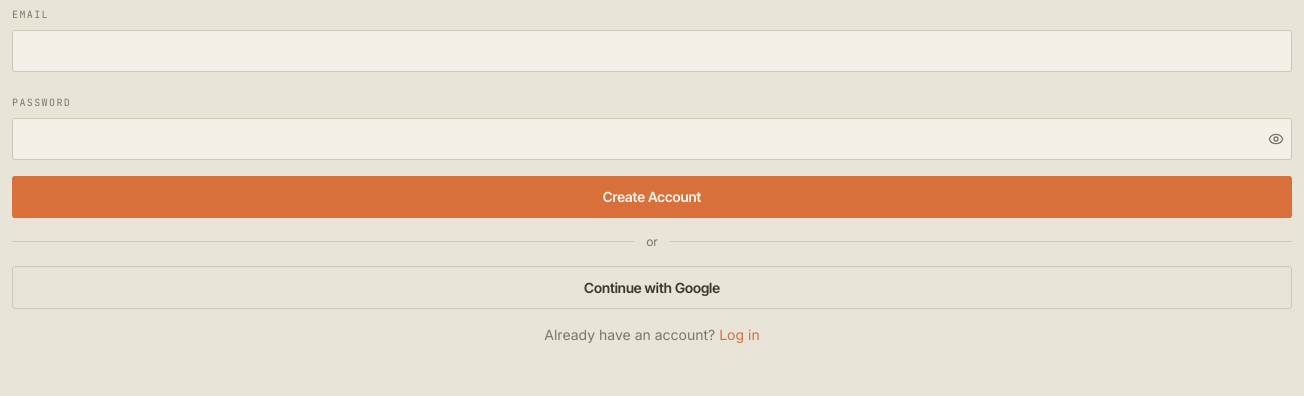
SignupForm › shows an account-exists message with a login link (7b.2)
The width and height of the screenshot is (1304, 396).
Type "taken@example.com" into the field labelled "Email".
click(652, 51); type("taken@example.com")  # box [12, 30, 1292, 72]
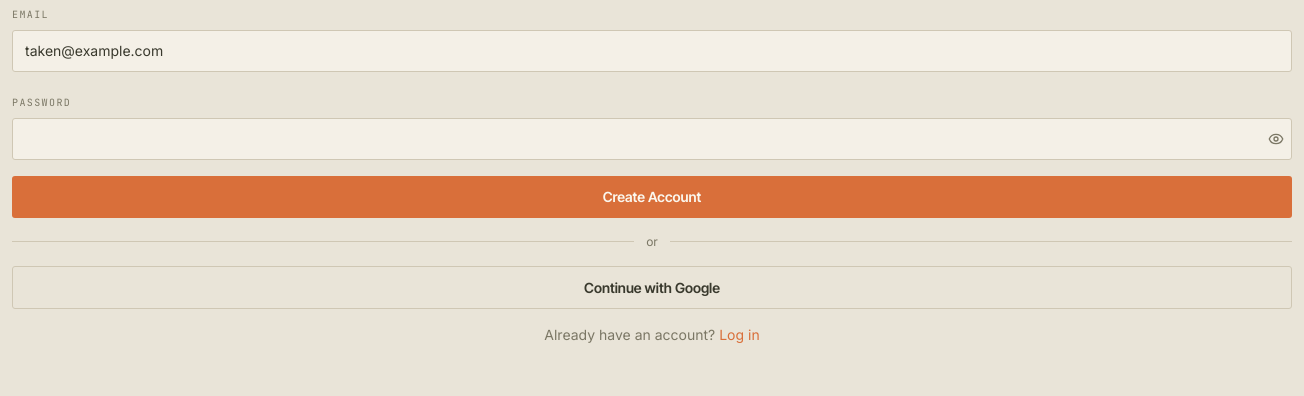
Type "password123" into the password field labelled "Password".
click(652, 139); type("password123")  # box [12, 118, 1292, 160]
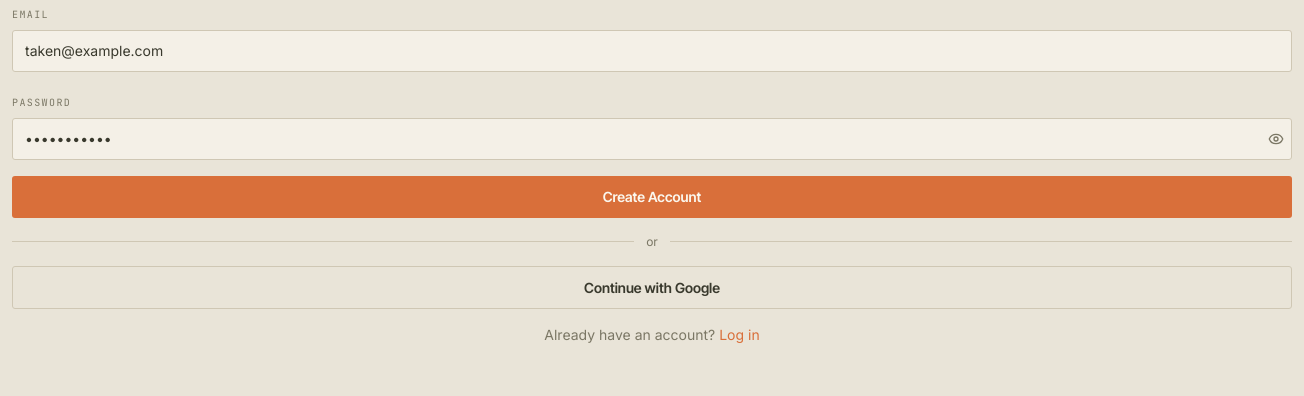
Click the button "Create Account".
click(652, 197)  # box [12, 176, 1292, 218]
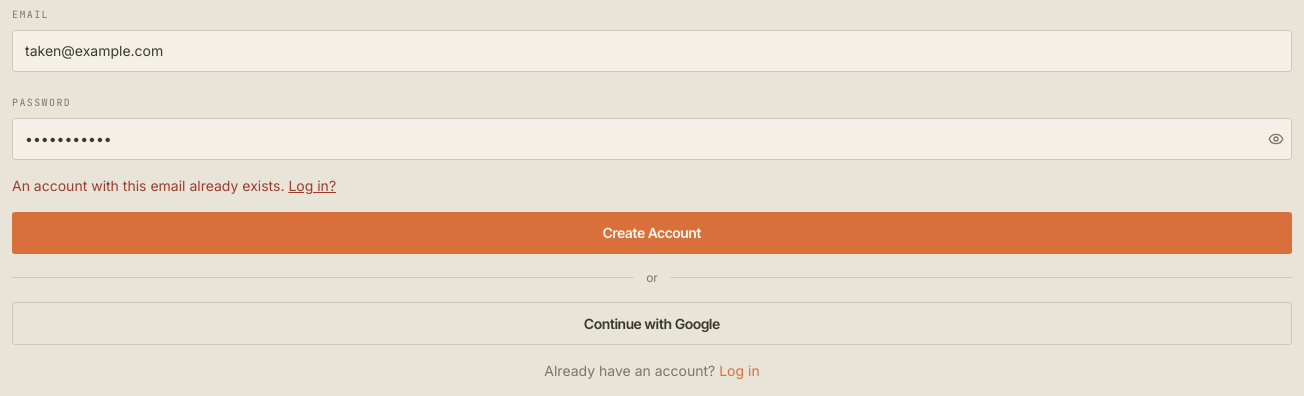
Now the text "An account with this email already exists. Log in?" is shown, box [12, 177, 336, 194]
